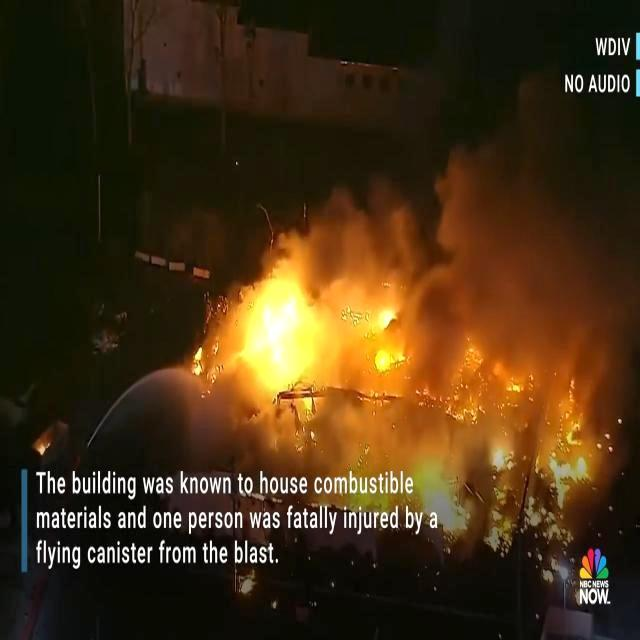fire: (451, 339, 597, 489), (332, 282, 436, 398), (235, 282, 327, 398), (290, 404, 450, 468), (427, 476, 517, 540), (26, 418, 70, 458)
